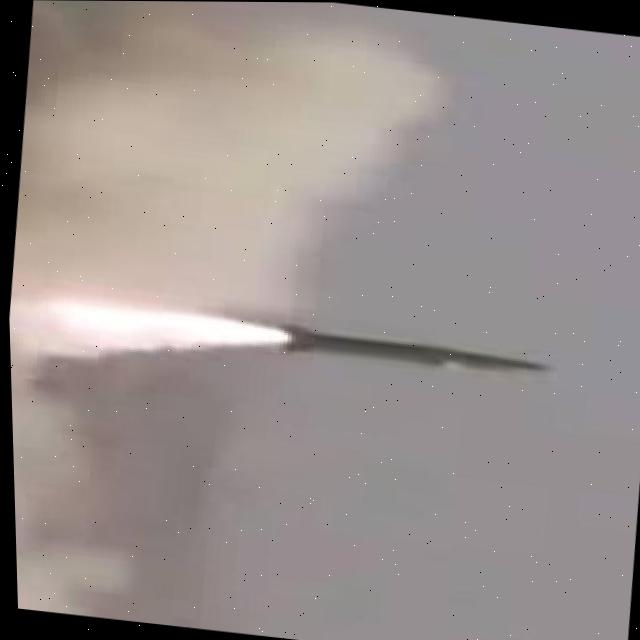missile: (273, 311, 557, 398)
